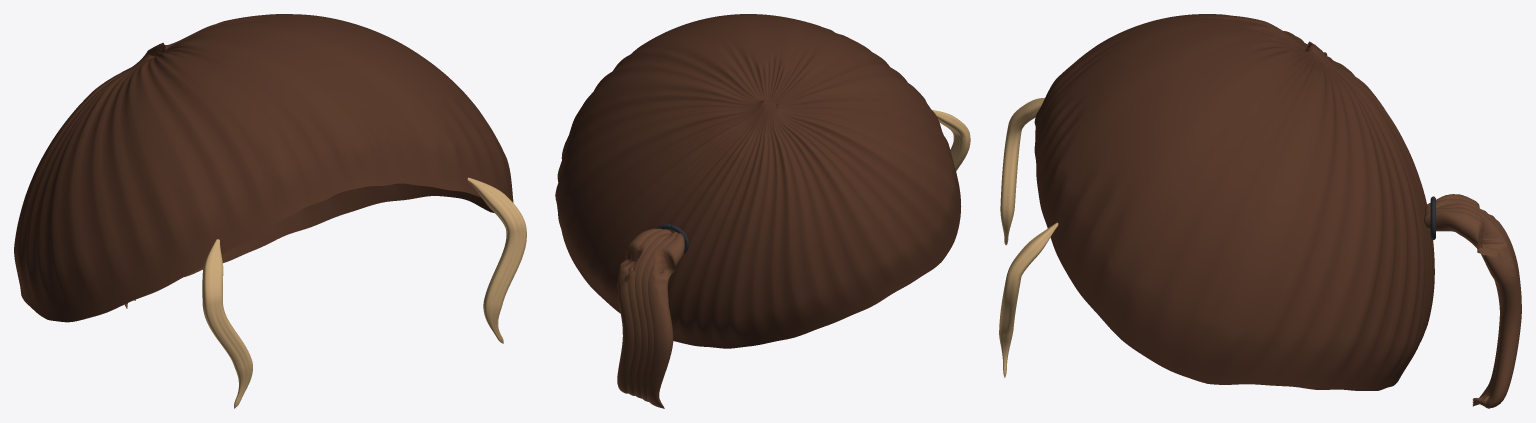
Rendered from Highlights-013fde890161251-hair.glb.
The picture shows the model from 3 angles, left to right: view 1: azimuth 30°, elevation 25°; view 2: azimuth 150°, elevation 25°; view 3: azimuth 270°, elevation 25°; orthographic projection. The views are drawn at different scales.
Parts seen in each view (by area): view 1: 226 hair / Hair / crisp pulled roots220.002, 226 hair / Hair / sculpted front locks222.002; view 2: 226 hair / Hair / crisp pulled roots220.002, 226 hair / Hair / chestnut226.001, 226 hair / Hair / sculpted front locks222.002; view 3: 226 hair / Hair / crisp pulled roots220.002, 226 hair / Hair / chestnut226.001, 226 hair / Hair / sculpted front locks222.002.
Part boxes in pixels (x1,y1,x2,y2): 226 hair / Hair / crisp pulled roots220.002: (14,14,513,322); 226 hair / Hair / sculpted front locks222.002: (202,177,526,408); 226 hair / Hair / crisp pulled roots220.002: (555,14,961,348); 226 hair / Hair / chestnut226.001: (617,228,684,408); 226 hair / Hair / sculpted front locks222.002: (932,110,970,171); 226 hair / Hair / crisp pulled roots220.002: (1034,14,1434,390); 226 hair / Hair / chestnut226.001: (1424,194,1521,408); 226 hair / Hair / sculpted front locks222.002: (999,98,1058,377).
Size of the model in its own units: 0.9675 by 0.7594 by 0.9676.
